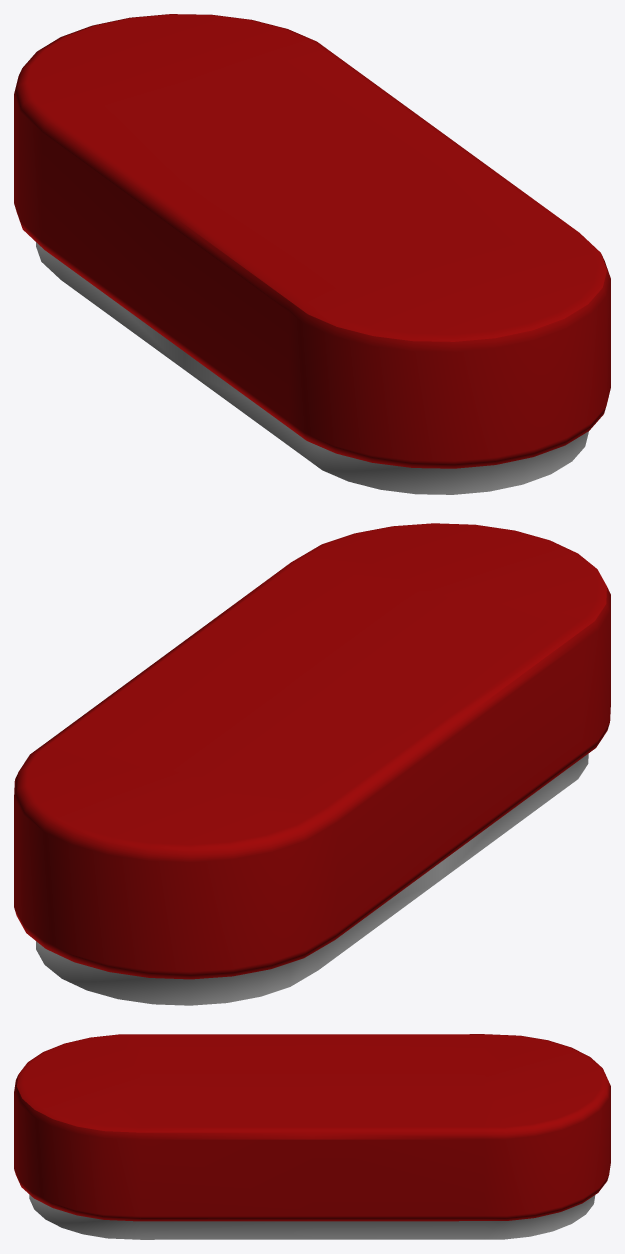
Rendered from WW_FoyetChair_01_Env.fbx.
The picture shows the model from 3 angles, top to bottom: view 1: azimuth 30°, elevation 25°; view 2: azimuth 150°, elevation 25°; view 3: azimuth 270°, elevation 25°; orthographic projection. The views are drawn at different scales.
Parts seen in each view (by area): view 1: WW_FoyerChair_03_Env2; view 2: WW_FoyerChair_03_Env2; view 3: WW_FoyerChair_03_Env2.
Part boxes in pixels (x1,y1,x2,y2): WW_FoyerChair_03_Env2: (14,14,610,494); WW_FoyerChair_03_Env2: (14,523,610,1005); WW_FoyerChair_03_Env2: (14,1034,610,1239).
Bounding box in the file's own units: 119 × 63.21 × 297.
